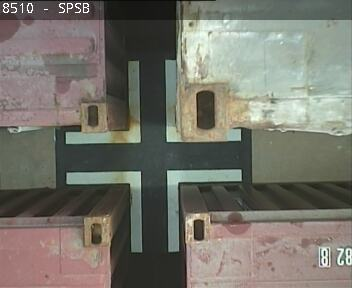groundmarker_1: (65, 61, 241, 145), (65, 168, 241, 252)
